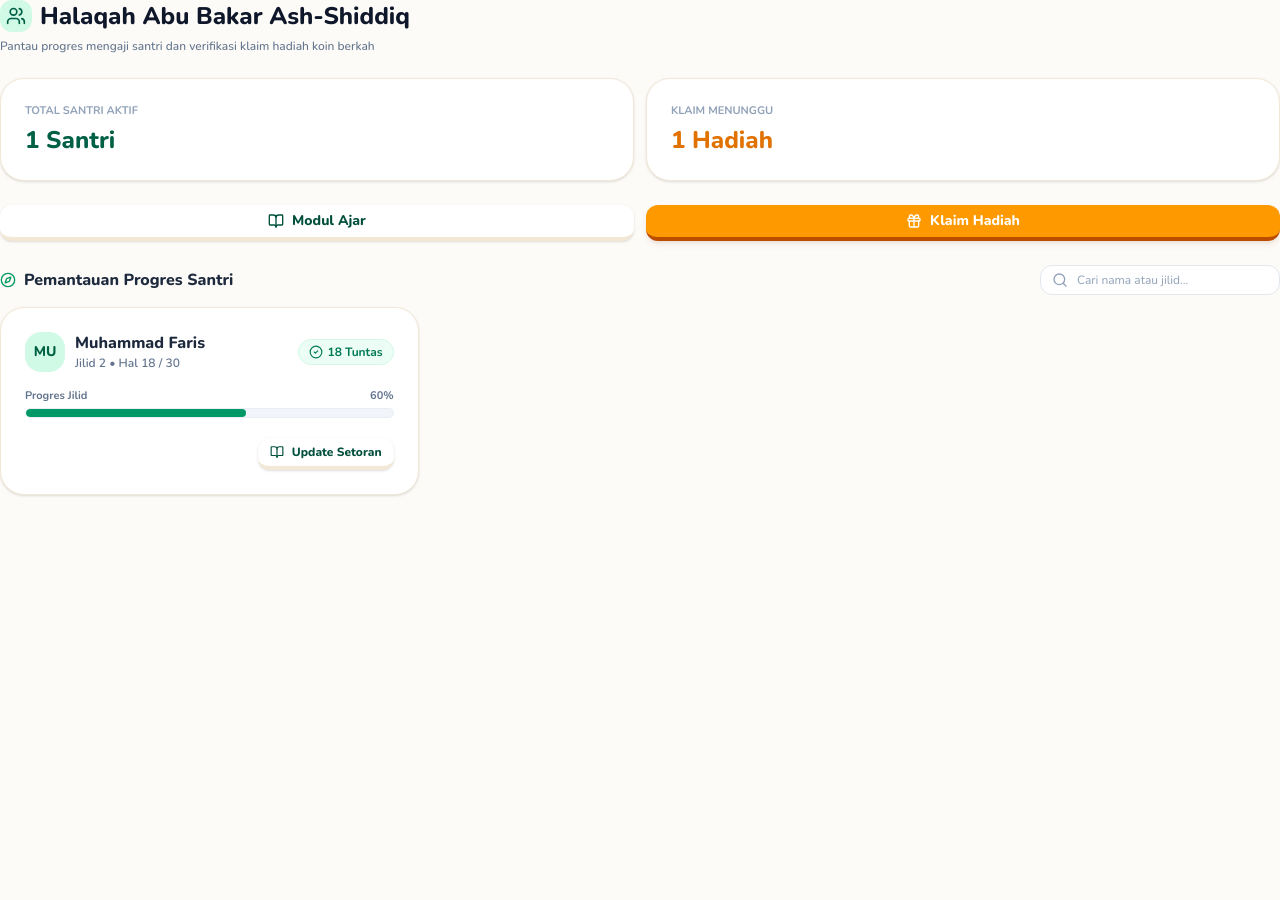
Test: DashboardPage Component › renders ustadz halaqah monitoring and allows recording setoran
Check: the heading "Halaqah Abu Bakar Ash-Shiddiq" is shown, box [40,0,410,32]
Check: the heading "Muhammad Faris" is shown, box [75,332,205,352]
// Click Update Setoran
Click the button "Update Setoran": [326, 454] box [258,438,394,470]
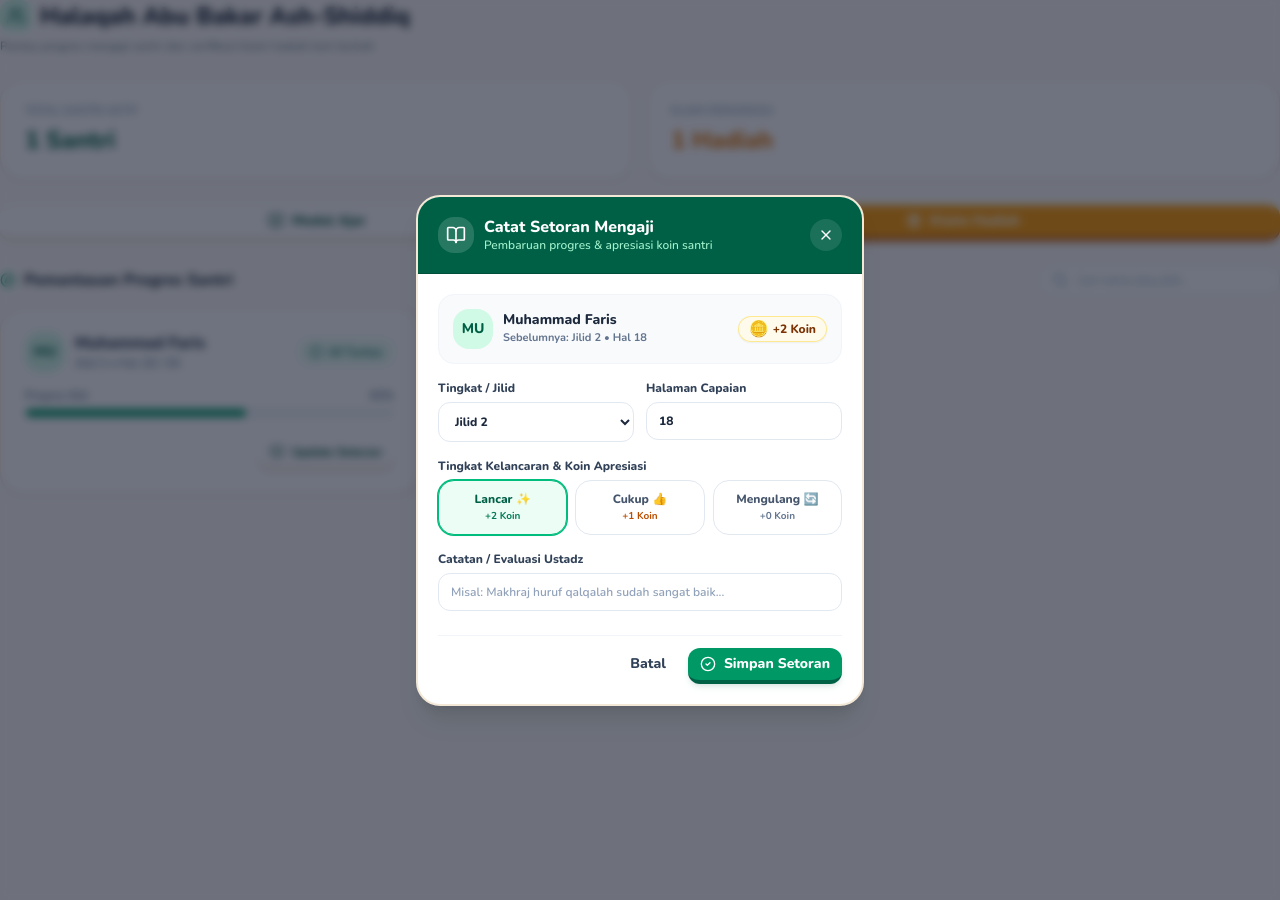
Check: the heading "Catat Setoran Mengaji" is shown, box [484,216,654,238]
// Submit setoran
Click the button "Simpan Setoran": [765, 666] box [688,648,842,684]
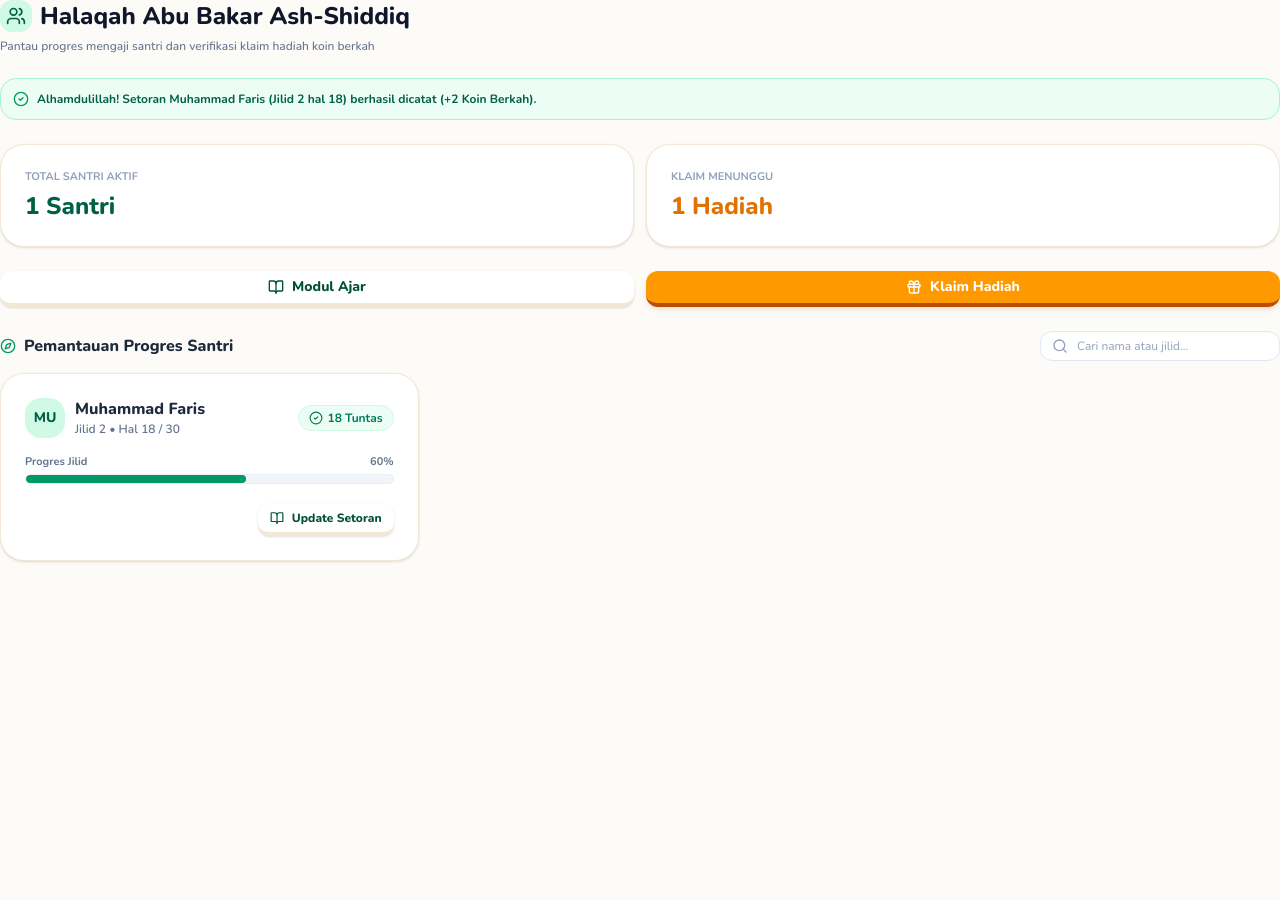
Check: the text "berhasil dicatat" is shown, box [37,91,536,107]
